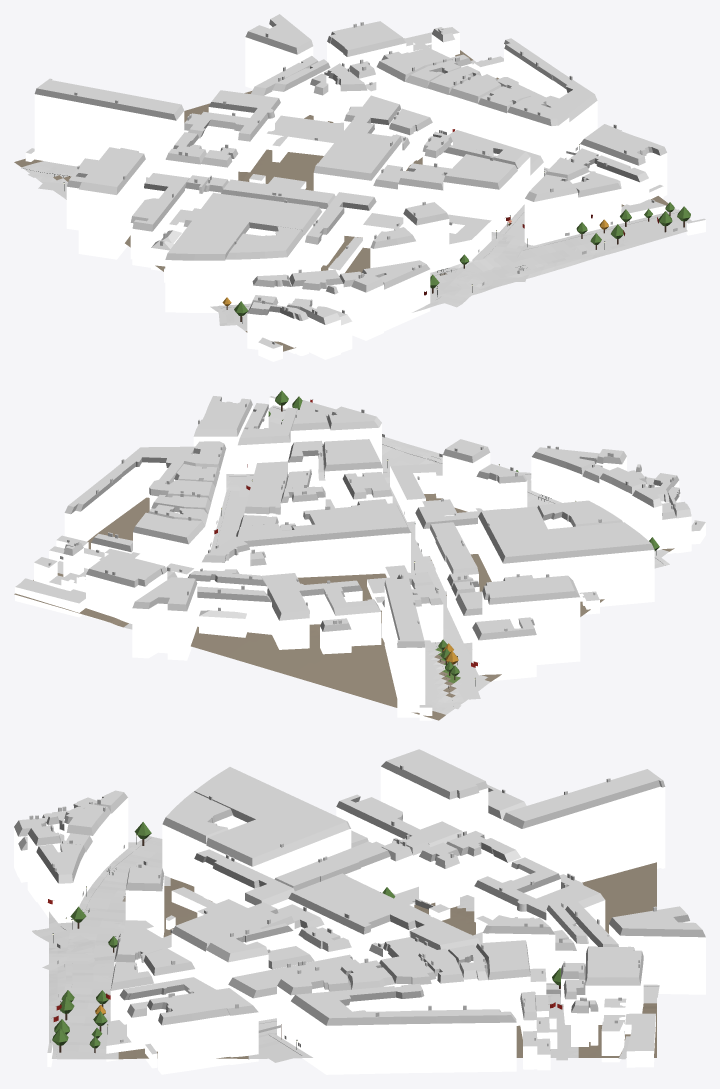
File: zone_I6.glb
3 views of the same model, one above another, from view 1: azimuth 30°, elevation 25°; view 2: azimuth 150°, elevation 25°; view 3: azimuth 270°, elevation 25° (orthographic). The views are drawn at different scales.
Parts seen in each view (by area): view 1: zone_I6_batiments, zone_I6_sol_NOCOL, zone_I6_terrain, zone_I6_decor_NOCOL; view 2: zone_I6_batiments, zone_I6_terrain, zone_I6_sol_NOCOL, zone_I6_decor_NOCOL; view 3: zone_I6_batiments, zone_I6_sol_NOCOL, zone_I6_terrain, zone_I6_decor_NOCOL.
Part boxes in pixels (box(x1,y1,x2,y2)): zone_I6_batiments: box(25, 14, 705, 361); zone_I6_sol_NOCOL: box(28, 157, 691, 325); zone_I6_terrain: box(14, 50, 691, 351); zone_I6_decor_NOCOL: box(23, 144, 690, 323); zone_I6_batiments: box(15, 396, 705, 720); zone_I6_terrain: box(14, 405, 674, 720); zone_I6_sol_NOCOL: box(57, 405, 669, 709); zone_I6_decor_NOCOL: box(221, 390, 659, 688); zone_I6_batiments: box(14, 749, 705, 1074); zone_I6_sol_NOCOL: box(32, 836, 659, 1062); zone_I6_terrain: box(49, 842, 656, 1059); zone_I6_decor_NOCOL: box(52, 822, 560, 1052).
Bounding box in the file's own units: 223 × 36.52 × 239.
